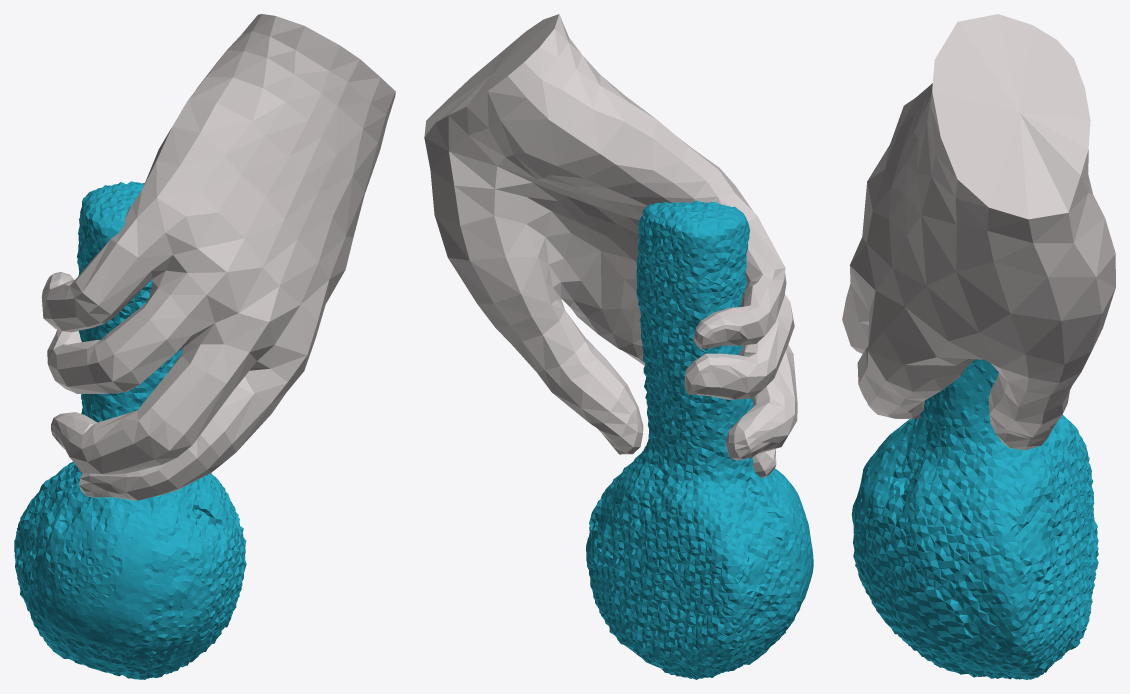
The picture shows the model from 3 angles, left to right: view 1: azimuth 30°, elevation 25°; view 2: azimuth 150°, elevation 25°; view 3: azimuth 270°, elevation 25°; orthographic projection. The views are drawn at different scales.
Parts seen in each view (by area): view 1: world; view 2: world; view 3: world.
Boxes of the visible parts, x1,y1,x2,y2 form: world: [14, 14, 395, 679]; world: [424, 14, 813, 679]; world: [842, 14, 1115, 679].
Size of the model in its own units: 0.1362 by 0.221 by 0.0744.
